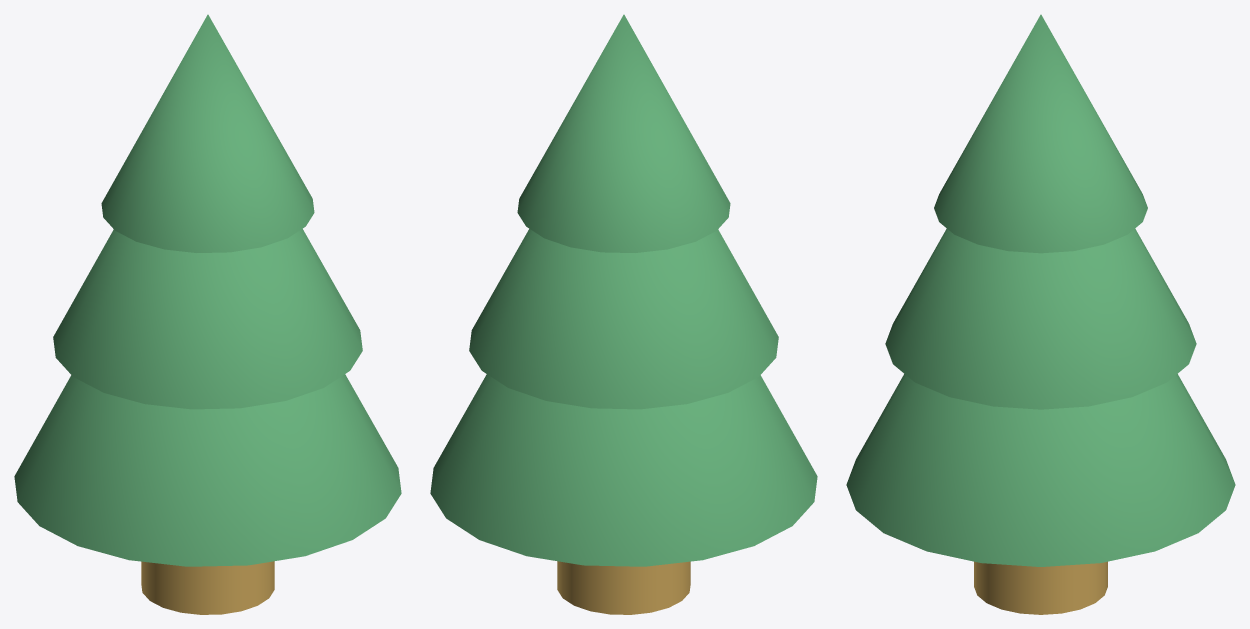
The model's file is pinheiro_verde.fbx.
3 renders of one model, left to right at view 1: azimuth 30°, elevation 25°; view 2: azimuth 150°, elevation 25°; view 3: azimuth 270°, elevation 25°, orthographic.
Visible parts, largest first — view 1: arvore3_6, arvore3_5, arvore3_4, arvore21; view 2: arvore3_6, arvore3_5, arvore3_4, arvore21; view 3: arvore3_6, arvore3_5, arvore3_4, arvore21.
Part boxes in pixels (x1,y1,x2,y2): arvore3_6: (14,374,401,566); arvore3_5: (53,229,362,409); arvore3_4: (101,14,314,252); arvore21: (141,561,274,614); arvore3_6: (430,374,817,566); arvore3_5: (469,229,778,409); arvore3_4: (517,14,730,252); arvore21: (557,561,690,614); arvore3_6: (846,374,1235,566); arvore3_5: (885,228,1196,409); arvore3_4: (934,14,1147,253); arvore21: (974,561,1107,614).
Size of the model in its own units: 1.96 by 3.18 by 1.96.
